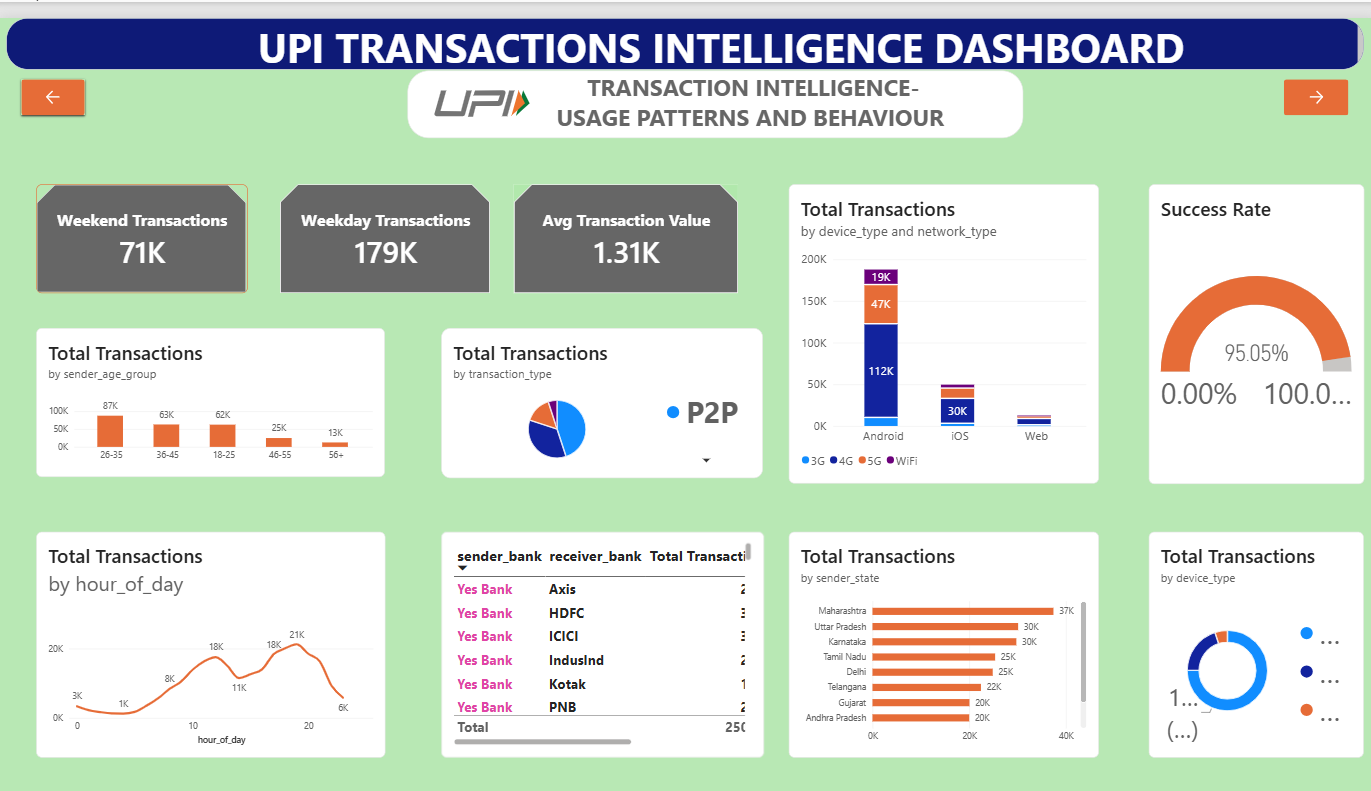

The page's visual inventory and layout, read from the dashboard file:
{"tool":"powerbi","page":{"name":"Transaction Intelligence","canvas":[1920,1080],"ordinal":1},"visuals":[{"type":"textbox","box":[9,0,1894.7,72.4],"z":0},{"type":"shape","box":[637,105.2,14.2,60.9],"z":0,"group":"g1"},{"type":"shape","box":[644.1,105,7.1,61.2],"z":1000,"group":"g1"},{"type":"cardVisual","fields":{"Data":["DateTable.Weekend Transactions"]},"box":[50.7,231.6,295,152],"z":1000},{"type":"group","id":"g1","title":"Group 1","box":[637,105,14.2,61.2],"z":2000,"group":"g2"},{"type":"cardVisual","fields":{"Data":["DateTable.Weekday Transactions"]},"box":[390.9,231.6,293.2,152],"z":2000},{"type":"cardVisual","fields":{"Data":["DateTable.Avg Transaction Value"]},"box":[716.6,231.6,313.1,152],"z":3000},{"type":"clusteredColumnChart","fields":{"Category":["upi_transactions_2024_powerbi.sender_age_group"],"Y":["DateTable.Total Transactions"]},"box":[50.7,432.5,486.8,208.1],"z":4000},{"type":"donutChart","fields":{"Category":["upi_transactions_2024_powerbi.device_type"],"Y":["DateTable.Total Transactions"]},"box":[1603.3,716.8,300,315],"z":5000},{"type":"pieChart","fields":{"Category":["upi_transactions_2024_powerbi.transaction_type"],"Y":["DateTable.Total Transactions"]},"box":[615.3,432.5,448.8,209.9],"z":6000},{"type":"lineChart","fields":{"Category":["upi_transactions_2024_powerbi.hour_of_day"],"Y":["DateTable.Total Transactions"]},"box":[50.8,716.8,487.5,315],"z":7000},{"type":"gauge","fields":{"Y":["DateTable.Success Rate"]},"box":[1603.4,231.6,300.4,418],"z":8000},{"type":"columnChart","fields":{"Category":["upi_transactions_2024_powerbi.device_type"],"Series":["upi_transactions_2024_powerbi.network_type"],"Y":["DateTable.Total Transactions"]},"box":[1100.8,231.8,432.5,417.5],"z":9000},{"type":"tableEx","fields":{"Values":["upi_transactions_2024_powerbi.sender_bank","upi_transactions_2024_powerbi.receiver_bank","DateTable.Total Transactions","DateTable.Avg Transaction Value"]},"box":[615.8,716.8,450,315],"z":10000},{"type":"clusteredBarChart","fields":{"Category":["upi_transactions_2024_powerbi.sender_state"],"Y":["DateTable.Total Transactions"]},"box":[1100.8,716.8,432.5,315],"z":11000},{"type":"group","id":"g2","title":"Group 5","box":[637,105,115.8,61.5],"z":12000},{"type":"textbox","box":[568.2,72.4,859.6,94.1],"z":13000},{"type":"image","box":[593.6,48.9,159.3,141.2],"z":14000},{"type":"textbox","box":[378.2,99.5,21.7,300.4],"z":15000},{"type":"actionButton","box":[1791.6,85.1,90.5,50.7],"z":15001},{"type":"actionButton","box":[29,85.1,88.7,50.7],"z":15002}]}

Visuals, with their boxes in screenshot pixels (x1, y1, x2, y2), scaled from the page's 1920x1080 canvas onto the 1371x791 screenshot:
textbox: pyautogui.locateOnScreen(6, 0, 1359, 53)
shape: pyautogui.locateOnScreen(455, 77, 465, 122)
shape: pyautogui.locateOnScreen(460, 77, 465, 122)
cardVisual - DateTable.Weekend Transactions: pyautogui.locateOnScreen(36, 170, 247, 281)
"Group 1" group: pyautogui.locateOnScreen(455, 77, 465, 122)
cardVisual - DateTable.Weekday Transactions: pyautogui.locateOnScreen(279, 170, 488, 281)
cardVisual - DateTable.Avg Transaction Value: pyautogui.locateOnScreen(512, 170, 735, 281)
clusteredColumnChart - upi_transactions_2024_powerbi.sender_age_group x DateTable.Total Transactions: pyautogui.locateOnScreen(36, 317, 384, 469)
donutChart - upi_transactions_2024_powerbi.device_type x DateTable.Total Transactions: pyautogui.locateOnScreen(1145, 525, 1359, 756)
pieChart - upi_transactions_2024_powerbi.transaction_type x DateTable.Total Transactions: pyautogui.locateOnScreen(439, 317, 760, 470)
lineChart - upi_transactions_2024_powerbi.hour_of_day x DateTable.Total Transactions: pyautogui.locateOnScreen(36, 525, 384, 756)
gauge - DateTable.Success Rate: pyautogui.locateOnScreen(1145, 170, 1359, 476)
columnChart - upi_transactions_2024_powerbi.device_type x upi_transactions_2024_powerbi.network_type: pyautogui.locateOnScreen(786, 170, 1095, 476)
tableEx - upi_transactions_2024_powerbi.sender_bank x upi_transactions_2024_powerbi.receiver_bank: pyautogui.locateOnScreen(440, 525, 761, 756)
clusteredBarChart - upi_transactions_2024_powerbi.sender_state x DateTable.Total Transactions: pyautogui.locateOnScreen(786, 525, 1095, 756)
"Group 5" group: pyautogui.locateOnScreen(455, 77, 538, 122)
textbox: pyautogui.locateOnScreen(406, 53, 1020, 122)
image: pyautogui.locateOnScreen(424, 36, 538, 139)
textbox: pyautogui.locateOnScreen(270, 73, 286, 293)
actionButton: pyautogui.locateOnScreen(1279, 62, 1344, 99)
actionButton: pyautogui.locateOnScreen(21, 62, 84, 99)
